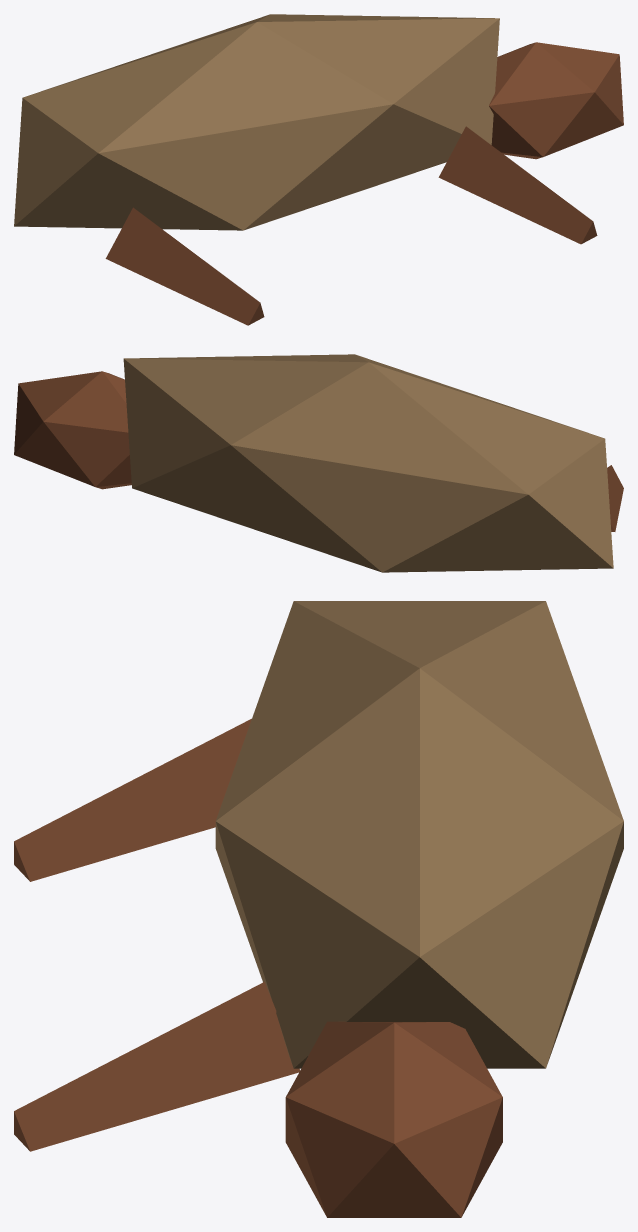
The picture shows the model from 3 angles, top to bottom: view 1: azimuth 30°, elevation 25°; view 2: azimuth 150°, elevation 25°; view 3: azimuth 270°, elevation 25°; orthographic projection. The views are drawn at different scales.
Parts seen in each view (by area): view 1: body; view 2: body; view 3: body.
Part boxes in pixels (box(x1,y1,x2,y2)): body: box(14, 14, 623, 325); body: box(14, 354, 623, 572); body: box(14, 601, 623, 1217).
Bounding box in the file's own units: 2.25 × 0.72 × 1.19.
